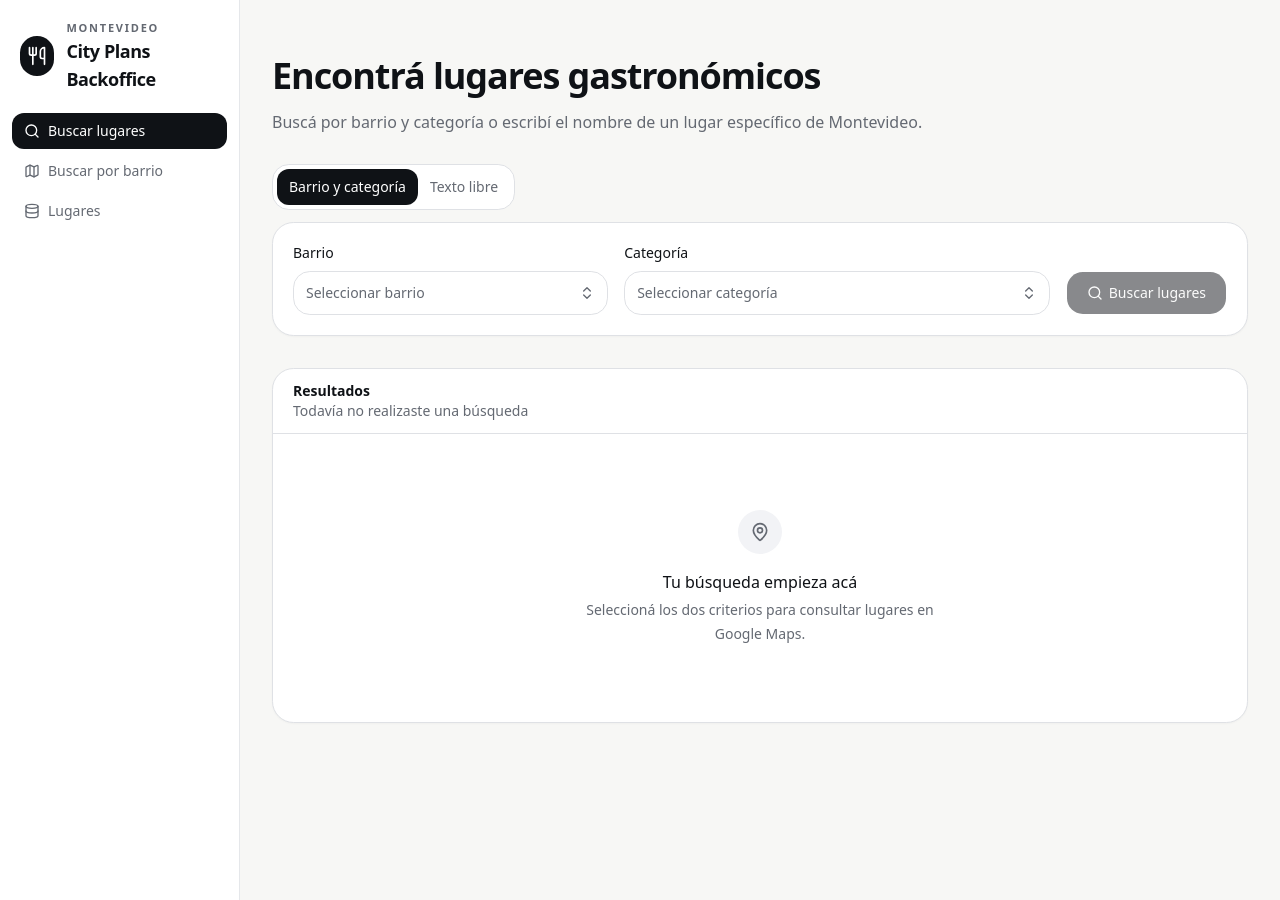
Scenario: City Plans Backoffice › la navegación lleva a la pantalla Lugares
Step 1. Click the link "Lugares" → (62, 210), box [24,200,101,220]
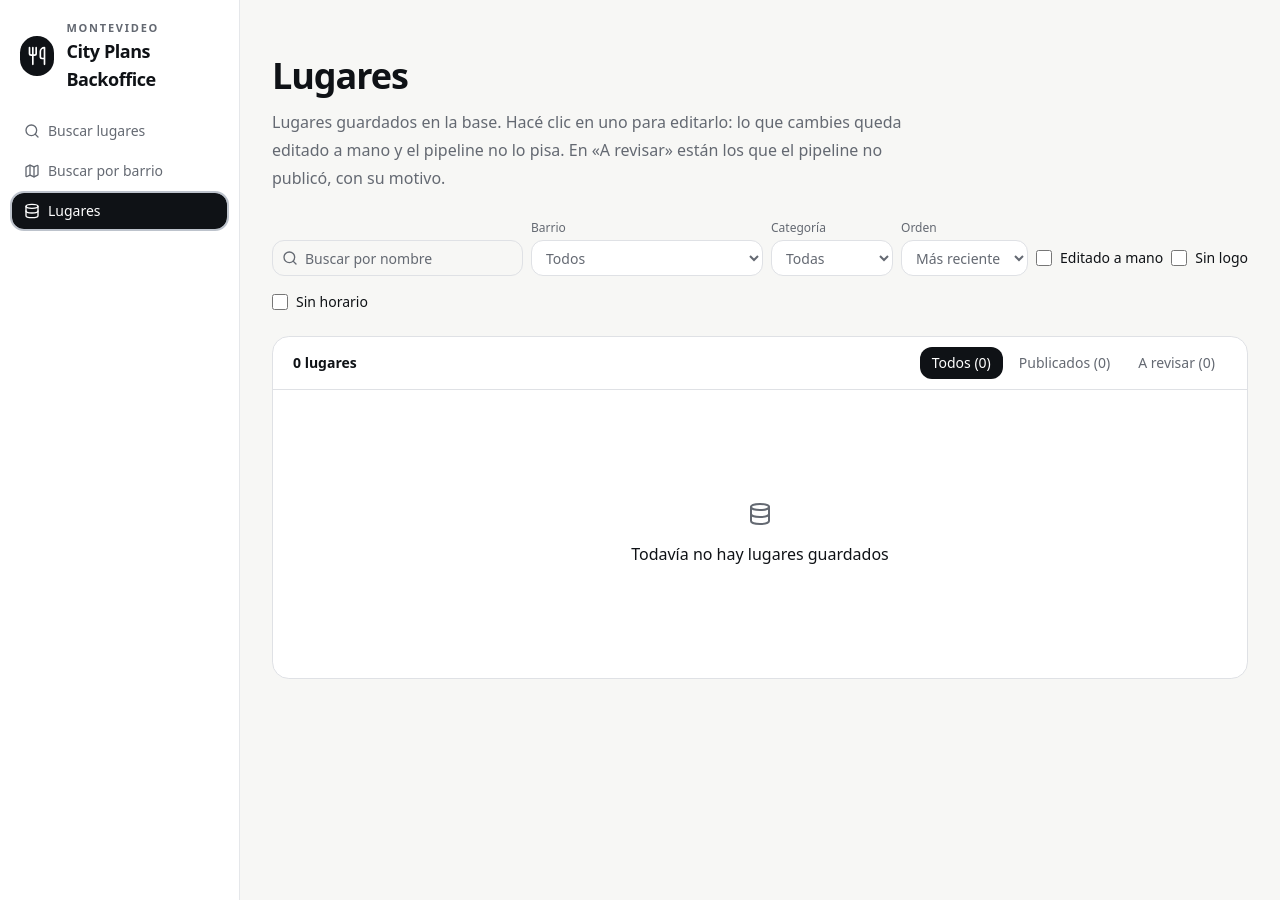
Expected: the heading "Lugares" is shown, [272,51,408,100]
Expected: the text "Todavía no hay lugares guardados" is shown, [631,542,889,566]
